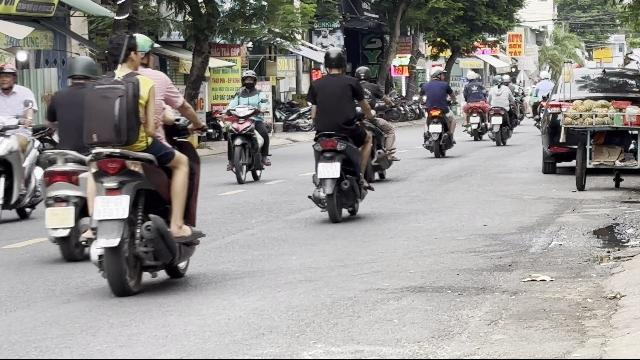helmet: (132, 32, 160, 72), (64, 54, 100, 84), (322, 47, 346, 73), (0, 62, 18, 90), (240, 70, 256, 88)
licenseplate: (94, 194, 128, 218), (46, 207, 74, 227), (318, 162, 340, 178)
motorcyclist: (85, 31, 209, 294), (35, 54, 101, 260), (304, 46, 376, 221), (1, 62, 44, 224), (220, 70, 272, 184)
nohelmet: (106, 34, 142, 72)
